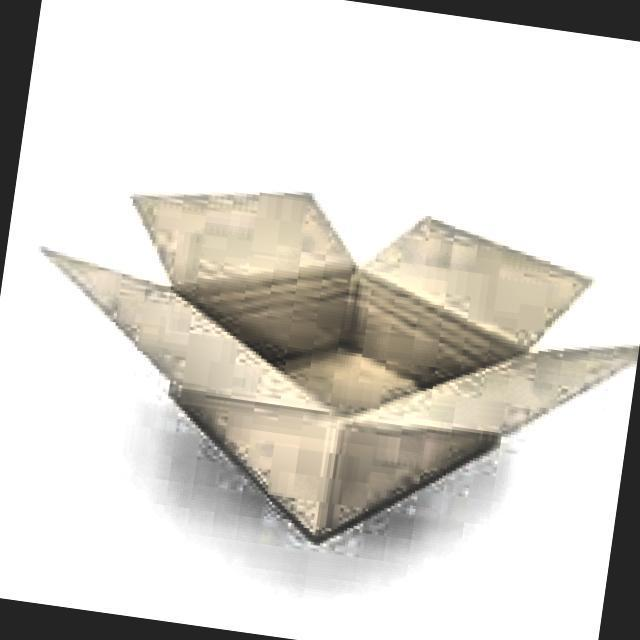cardboard: (6, 151, 640, 583)
